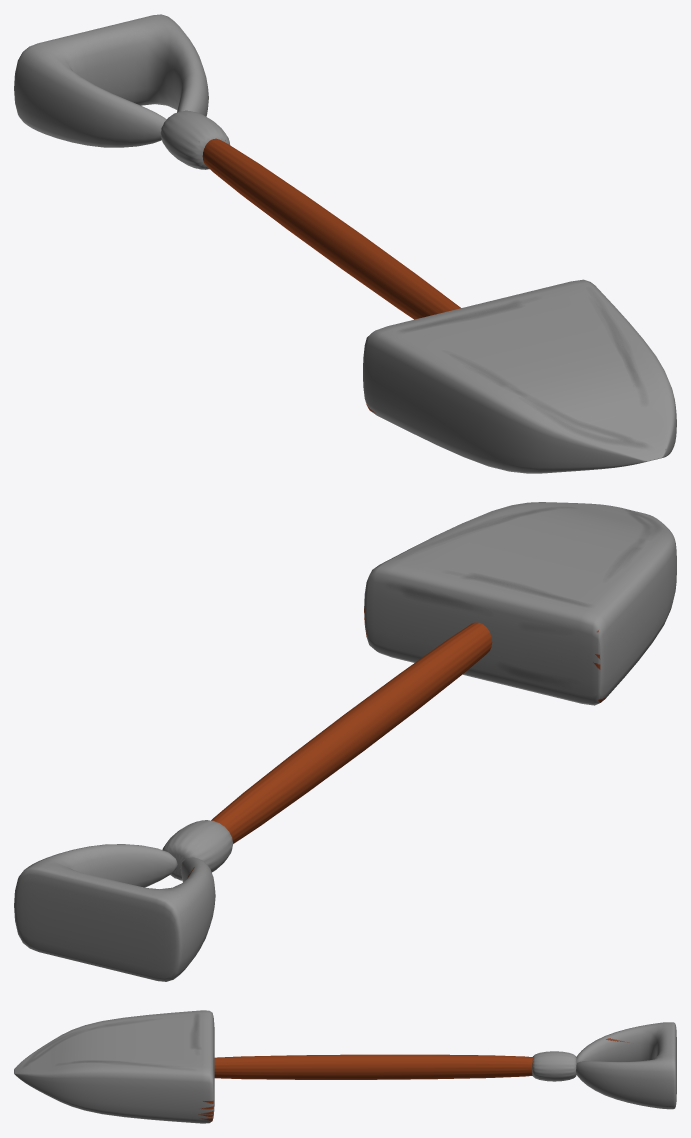
Rendered from pala.obj.
3 views of the same model, one above another, from view 1: azimuth 30°, elevation 25°; view 2: azimuth 150°, elevation 25°; view 3: azimuth 270°, elevation 25° (orthographic). The views are drawn at different scales.
Visible parts, largest first — view 1: pala:polySurface1; view 2: pala:polySurface1; view 3: pala:polySurface1.
Part boxes in pixels (left/top/right/bottom): pala:polySurface1: left=14, top=14, right=676, bottom=473; pala:polySurface1: left=14, top=502, right=676, bottom=981; pala:polySurface1: left=14, top=1010, right=676, bottom=1123.
Size of the model in its own units: 0.3668 by 0.1331 by 1.49.
1 material, 1 textured.
